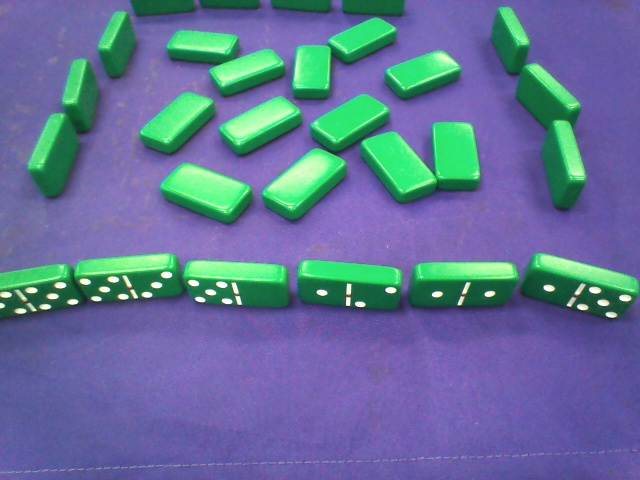A: (261, 143, 353, 224), (162, 158, 253, 230), (358, 127, 440, 203), (139, 88, 216, 157), (221, 96, 303, 152), (211, 43, 289, 100), (311, 93, 394, 146), (426, 118, 481, 193), (387, 50, 465, 98), (327, 16, 399, 61), (163, 28, 240, 63), (292, 44, 335, 100)
C: (27, 111, 82, 199), (61, 58, 103, 132), (96, 11, 138, 77)
D: (512, 64, 589, 131), (538, 122, 590, 215), (486, 5, 531, 72)
E: (521, 254, 634, 321), (294, 258, 404, 319), (407, 259, 522, 311), (183, 258, 290, 311), (73, 256, 182, 304), (1, 271, 83, 312)
F: (128, 1, 199, 15), (270, 1, 339, 14), (343, 1, 407, 15), (201, 1, 262, 11)
